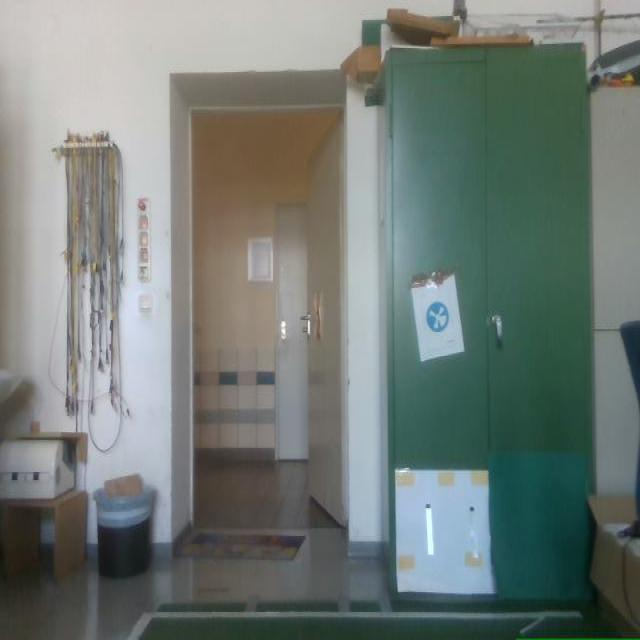objects: (620, 450, 639, 537)
